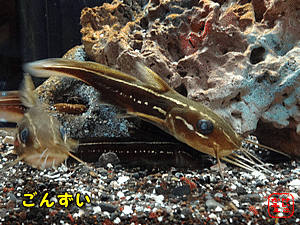gonzui: (48, 37, 257, 167)
